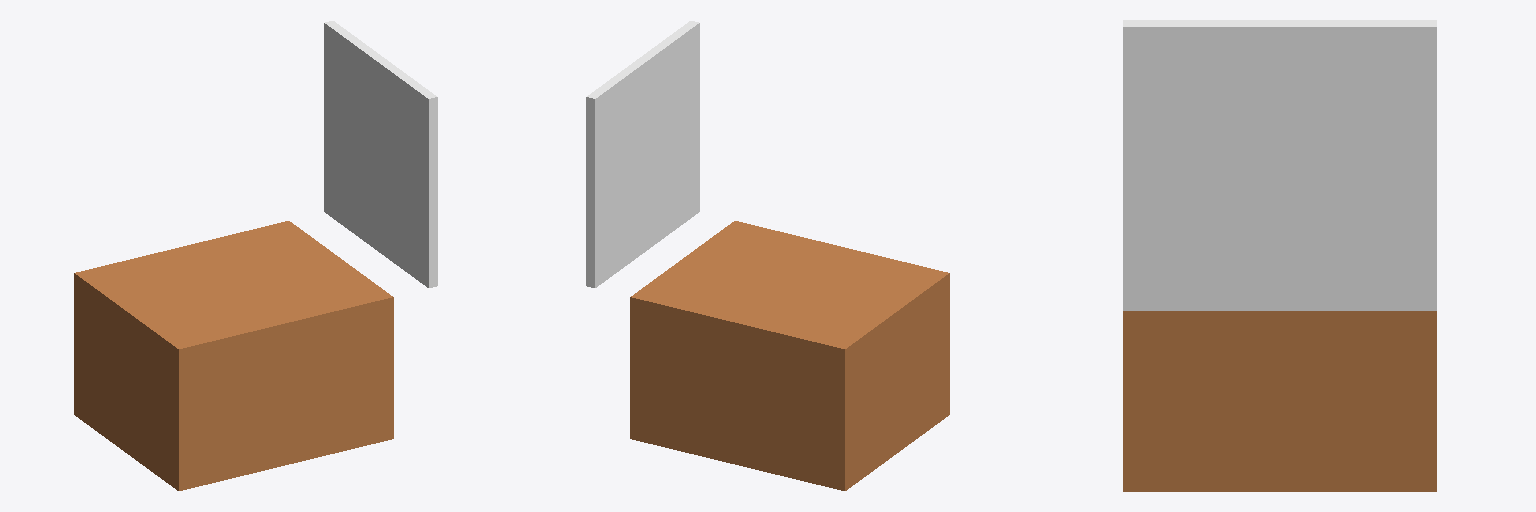
robot.urdf — table_sharpie_marker_draw_smile:
<?xml version="1.0"?>
<robot name="table_sharpie_marker_draw_smile">
  <link name="box">
    <visual>
      <material name="wood">
        <color rgba="0.82 0.56 0.35 1.0"/>
      </material>
      <origin xyz="0 0 0"/>
      <geometry>
        <box size="0.475 0.4 0.3"/>
      </geometry>
    </visual>
    <collision>
      <origin xyz="0 0 0"/>
      <geometry>
        <box size="0.475 0.4 0.3"/>
      </geometry>
    </collision>
    <!-- Whiteboard -->
    <visual>
      <material name="whiteboard">
        <color rgba="1.0 1.0 1.0 1.0"/>
      </material>
      <origin xyz="0.325 0.0 0.35"/>
      <geometry>
        <box size="0.02 0.4 0.4"/>
      </geometry>
    </visual>
    <collision>
      <origin xyz="0.325 0.0 0.35"/>
      <geometry>
        <box size="0.02 0.4 0.4"/>
      </geometry>
    </collision>
    <inertial>
      <mass value="500"/>
      <friction value="1.0"/>
      <inertia ixx="1000.0" ixy="0.0" ixz="0.0" iyy="1000.0" iyz="0.0" izz="1000.0"/>
    </inertial>
  </link>
</robot>

--- Facts derived from the render (not from the file) ---
The picture shows the robot from 3 angles, left to right: view 1: azimuth 30°, elevation 25°; view 2: azimuth 150°, elevation 25°; view 3: azimuth 270°, elevation 25°; orthographic projection.
Model table_sharpie_marker_draw_smile with 1 links and 0 joints (none), rooted at box, posed every joint at zero.
Links seen in each view (by area): view 1: box; view 2: box; view 3: box.
Link boxes in pixels (left/top/right/bottom): box: left=74, top=21, right=437, bottom=490; box: left=586, top=21, right=949, bottom=490; box: left=1123, top=20, right=1436, bottom=491.
Bounding box of the posed robot: 0.5725 × 0.4 × 0.7 m (x, y, z).
Geometry: primitives only (box / cylinder / sphere), no mesh files.
